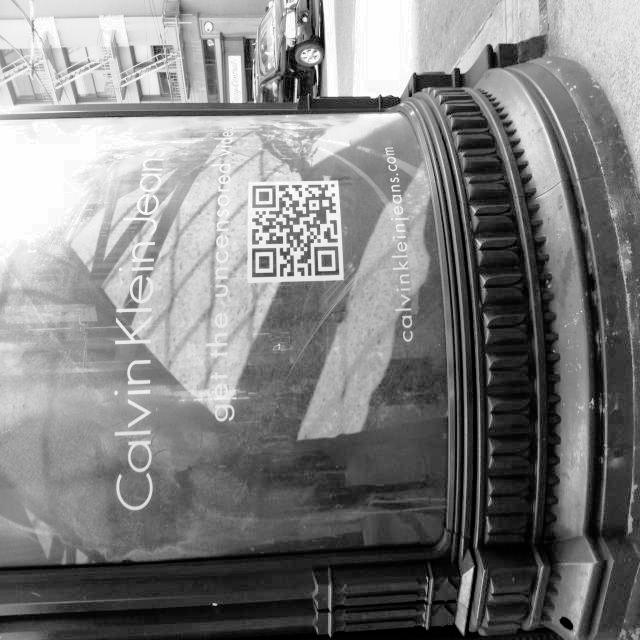qr_code: (252, 184, 339, 277)
